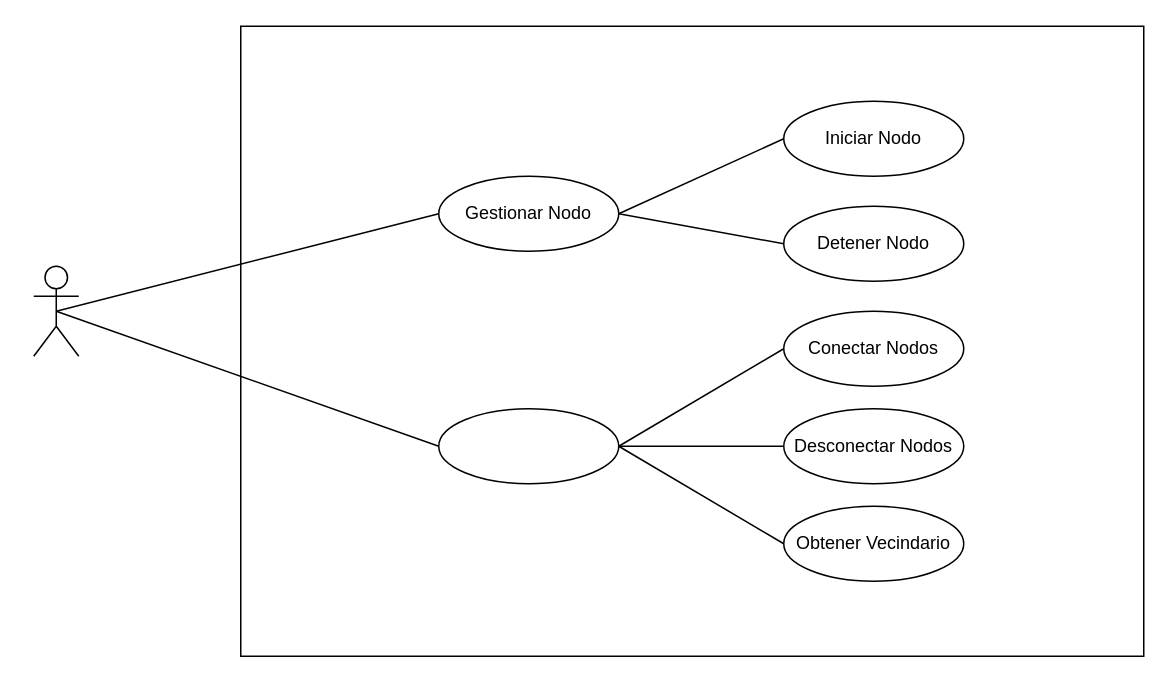
Some shapes in this 1170 by 683 pixel diagram are drawn without their labels. The centre of each missing label's shape, as x and y in pixels:
"Gestionar Vecincario" belongs at point 528,445.
"Usuario" belongs at point 55,310.
